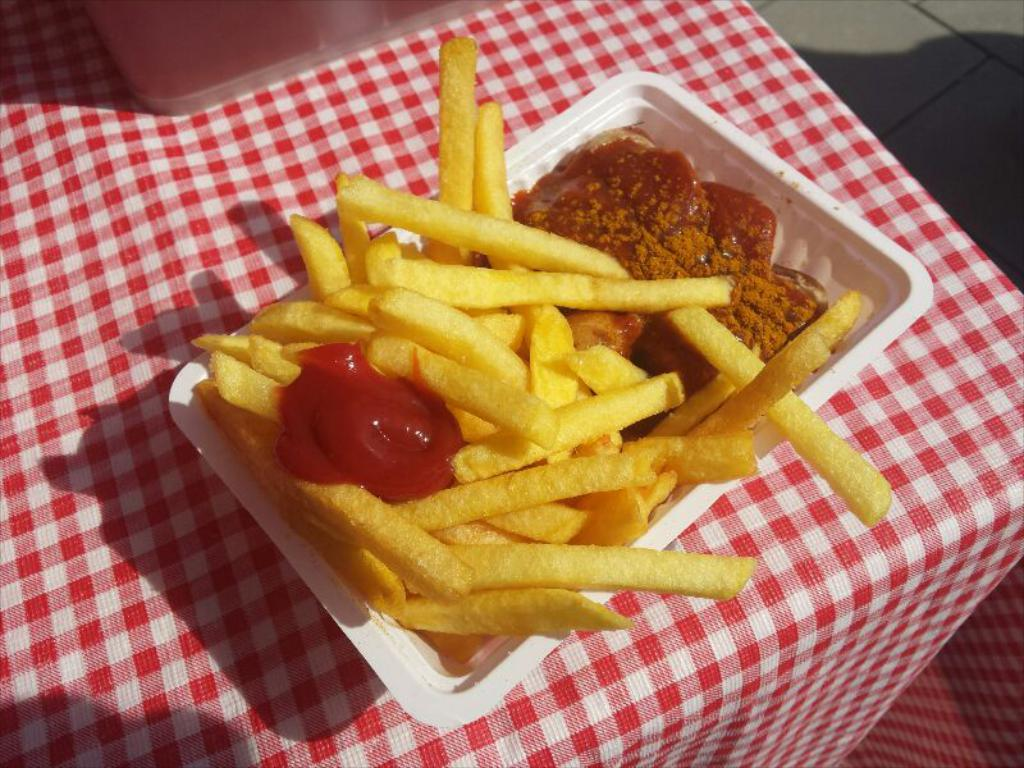French fries: (160, 29, 894, 666)
